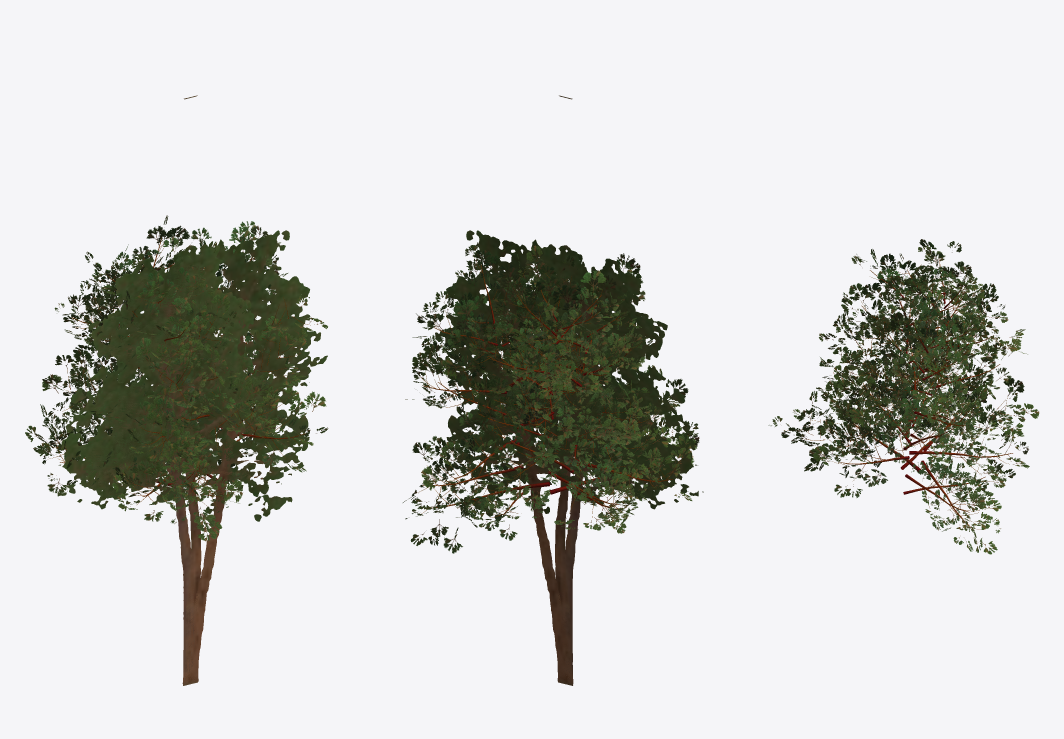
File: akamatsu.glb
3 renders of one model, left to right at view 1: azimuth 30°, elevation 25°; view 2: azimuth 150°, elevation 25°; view 3: azimuth 270°, elevation 25°, orthographic. The views are drawn at different scales.
Parts seen in each view (by area): view 1: v2_imp, v1_imp, v0_imp, v2_lod0, v1_lod0, v0_lod0; view 2: v1_lod0, v0_imp, v1_imp, v0_lod0, v2_lod0, v2_imp; view 3: v0_lod0, v1_lod0, v2_lod0.
Boxes of the visible parts, <box> form: v2_imp: <box>53,95,265,685</box>; v1_imp: <box>65,244,307,685</box>; v0_imp: <box>148,230,327,684</box>; v2_lod0: <box>25,253,280,541</box>; v1_lod0: <box>34,215,298,521</box>; v0_lod0: <box>99,221,328,503</box>; v1_lod0: <box>405,245,699,553</box>; v0_imp: <box>430,230,623,684</box>; v1_imp: <box>449,244,690,685</box>; v0_lod0: <box>403,242,656,540</box>; v2_lod0: <box>464,253,696,533</box>; v2_imp: <box>497,95,703,684</box>; v0_lod0: <box>793,274,1029,532</box>; v1_lod0: <box>812,239,1039,554</box>; v2_lod0: <box>768,249,999,477</box>.
Size of what is drawn, in the model's own units: 13.7 by 25 by 11.43.
Materials: 2 (2 with a texture image).
